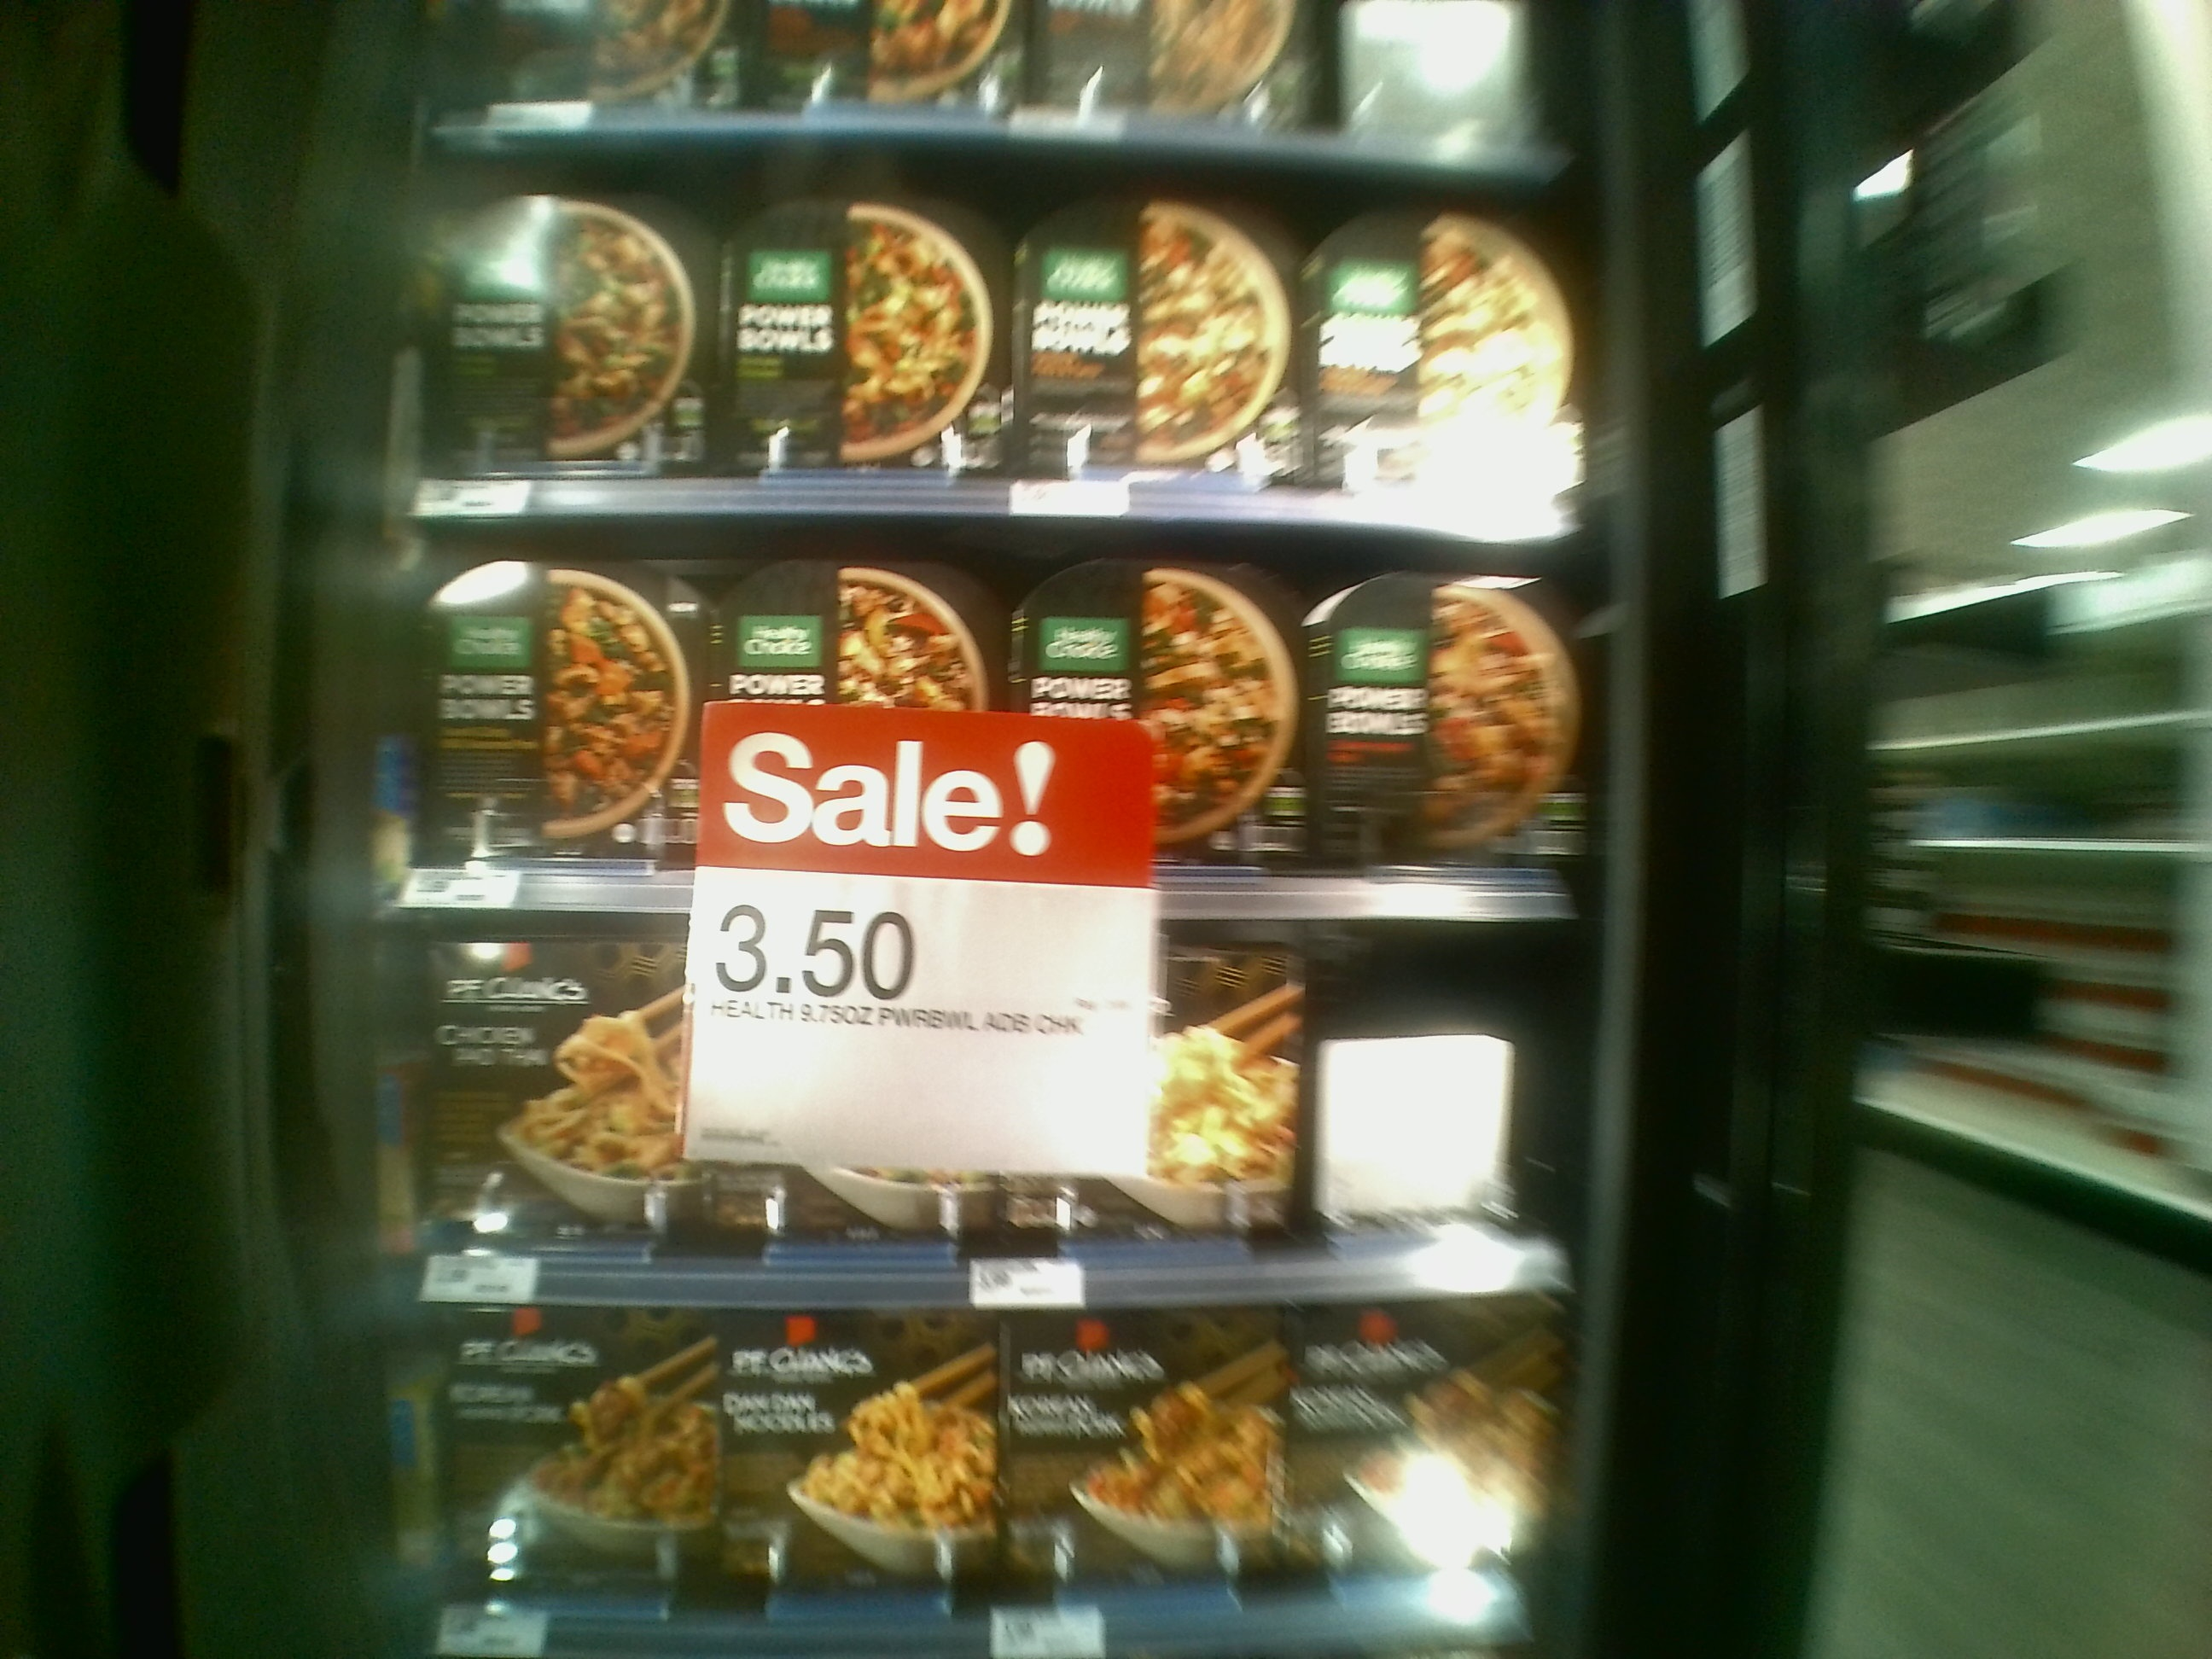shelf: (394, 495, 1585, 918), (394, 882, 1571, 1309), (430, 124, 1562, 528), (423, 1279, 1564, 1659)
